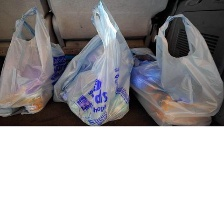plastic_bag: (126, 11, 224, 128), (48, 0, 135, 127), (0, 0, 69, 120)
